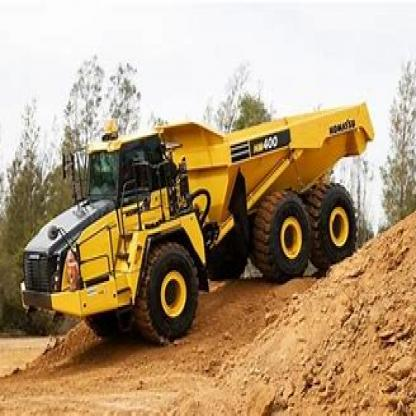dump_truck: (14, 100, 374, 329)
